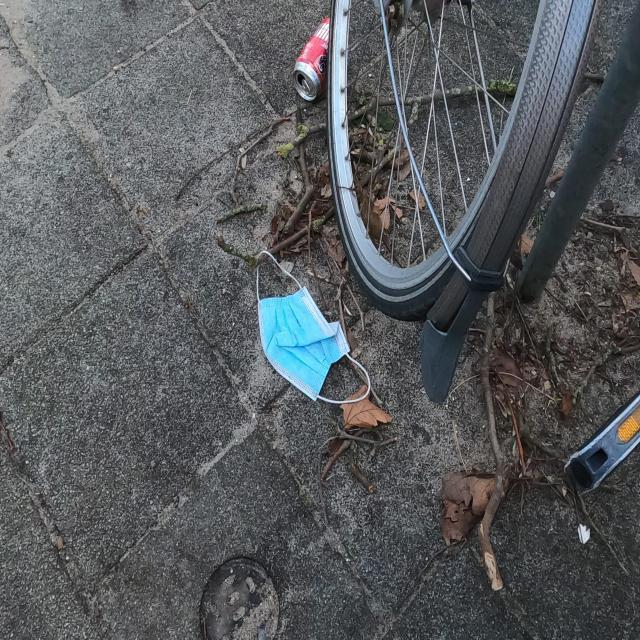Can-Metal: (291, 13, 332, 102)
Mask: (254, 248, 372, 406)
